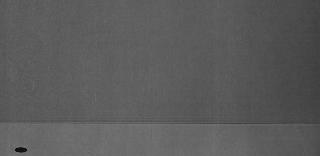welding line: (1, 118, 320, 130)
